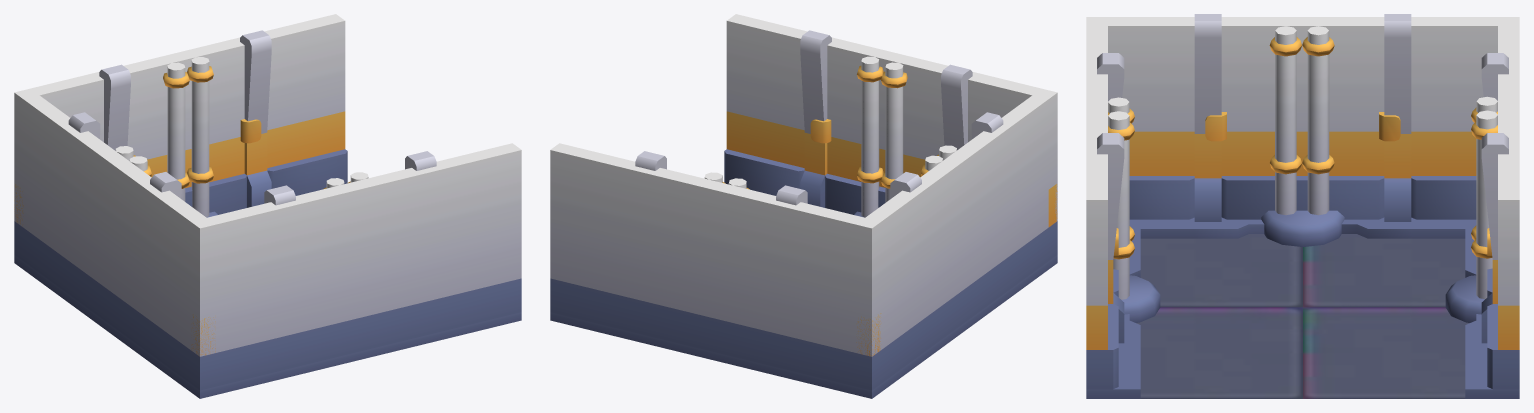
The model's file is corridor-wide-end.glb.
The picture shows the model from 3 angles, left to right: view 1: azimuth 30°, elevation 25°; view 2: azimuth 150°, elevation 25°; view 3: azimuth 270°, elevation 25°; orthographic projection. The views are drawn at different scales.
Parts seen in each view (by area): view 1: corridor-wide-end; view 2: corridor-wide-end; view 3: corridor-wide-end.
Boxes of the visible parts, left/top/right/bottom form: corridor-wide-end: left=14, top=14, right=521, bottom=398; corridor-wide-end: left=550, top=14, right=1057, bottom=398; corridor-wide-end: left=1086, top=14, right=1519, bottom=398.
Size of the model in its own units: 8 by 4.25 by 8.
Materials: 1 (1 with a texture image).
